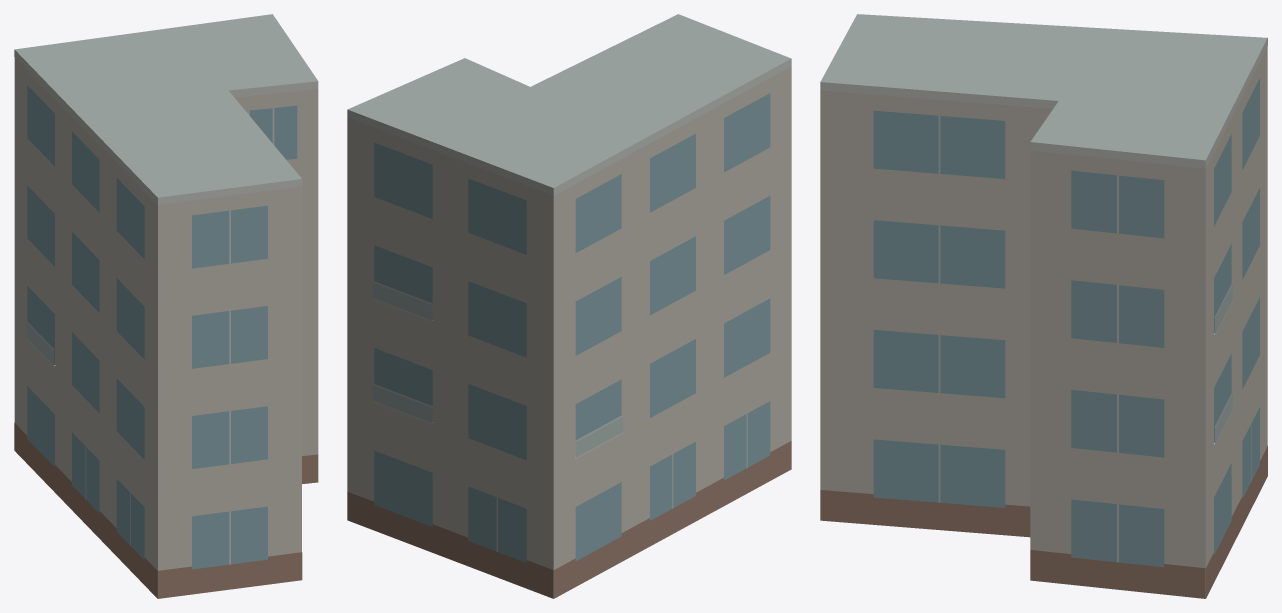
The model's file is survey-upis-33028686.glb.
3 views of the same model, side by side, from view 1: azimuth 30°, elevation 25°; view 2: azimuth 150°, elevation 25°; view 3: azimuth 270°, elevation 25° (orthographic). The views are drawn at different scales.
Parts seen in each view (by area): view 1: survey-upis-33028686.tmp; view 2: survey-upis-33028686.tmp; view 3: survey-upis-33028686.tmp.
Boxes of the visible parts, bbox=[...] form: survey-upis-33028686.tmp: bbox=[14, 14, 318, 598]; survey-upis-33028686.tmp: bbox=[347, 14, 791, 598]; survey-upis-33028686.tmp: bbox=[820, 14, 1267, 598].
Size of the model in its own units: 9.28 by 12.95 by 11.99.
